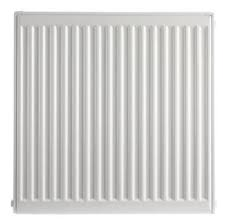Radiator: (11, 10, 216, 215)
